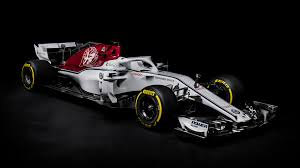FormulaOneCar: (18, 34, 282, 145)
